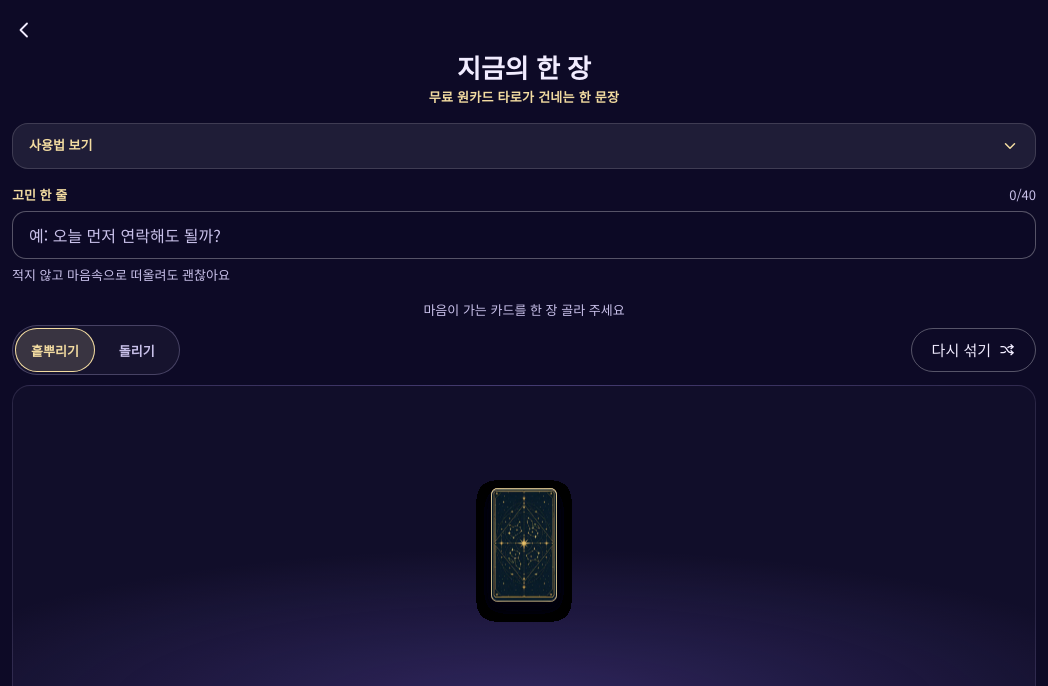
Scenario: 지금의 한 장 how-to › stays folded behind 사용법 보기 on a later visit, and the toggle opens it
Step 1. Click the button "사용법 보기" → click(61, 145), box [13,124,1035,168]
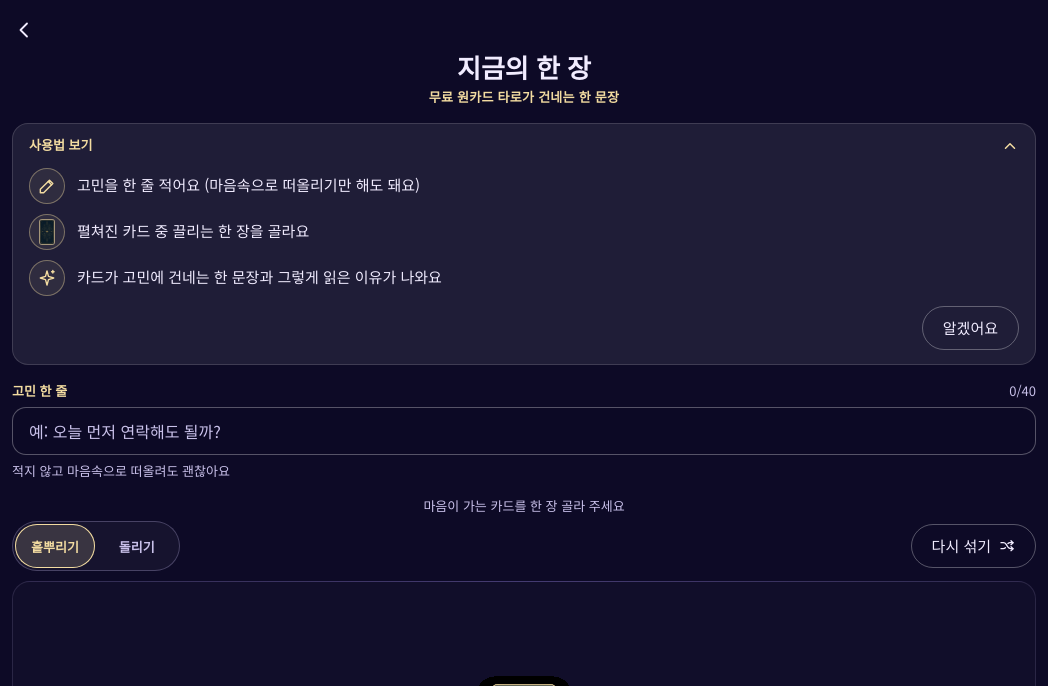
expect the button "사용법 보기" is expanded: met, box [13,124,1035,168]
expect the number of list items is 3: met, box [29,168,420,204]; [29,214,309,250]; [29,260,442,296]
